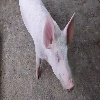heo: (35, 10, 79, 92)
